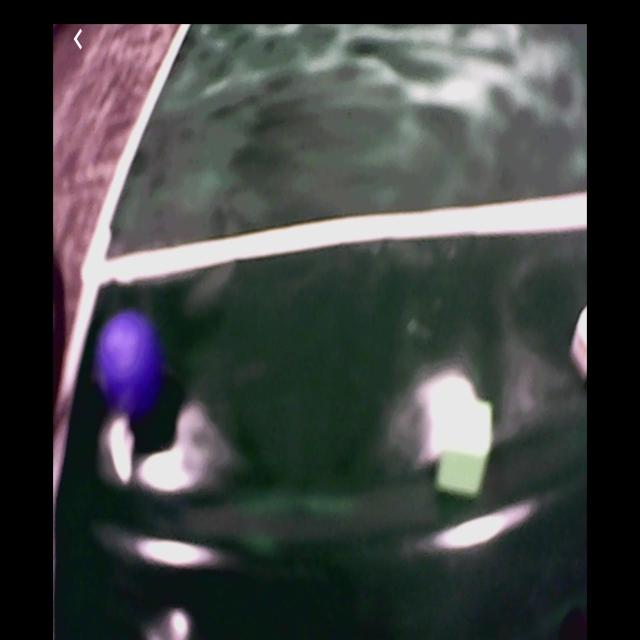ball: (97, 308, 157, 410)
